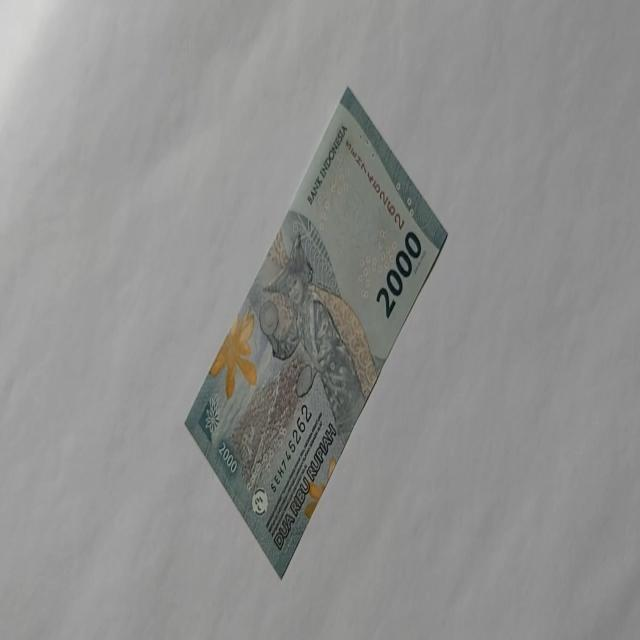dua ribu rupiah: (184, 85, 448, 579), (258, 226, 368, 447), (208, 306, 258, 401)
